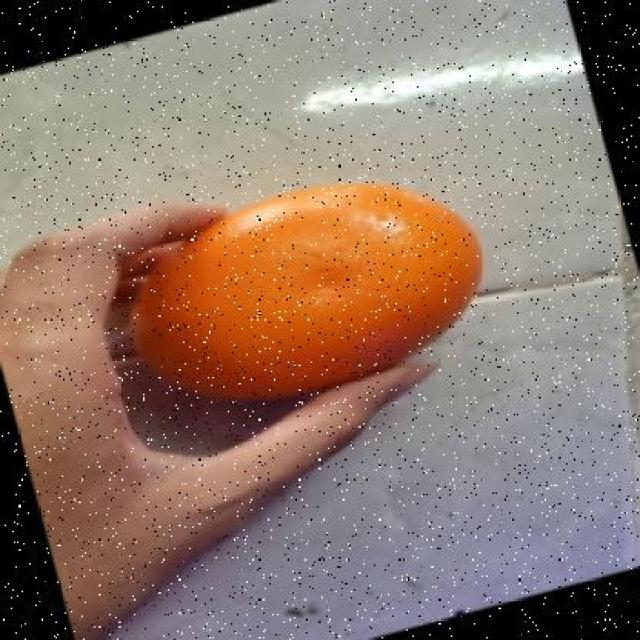Orange: (131, 178, 483, 402)
